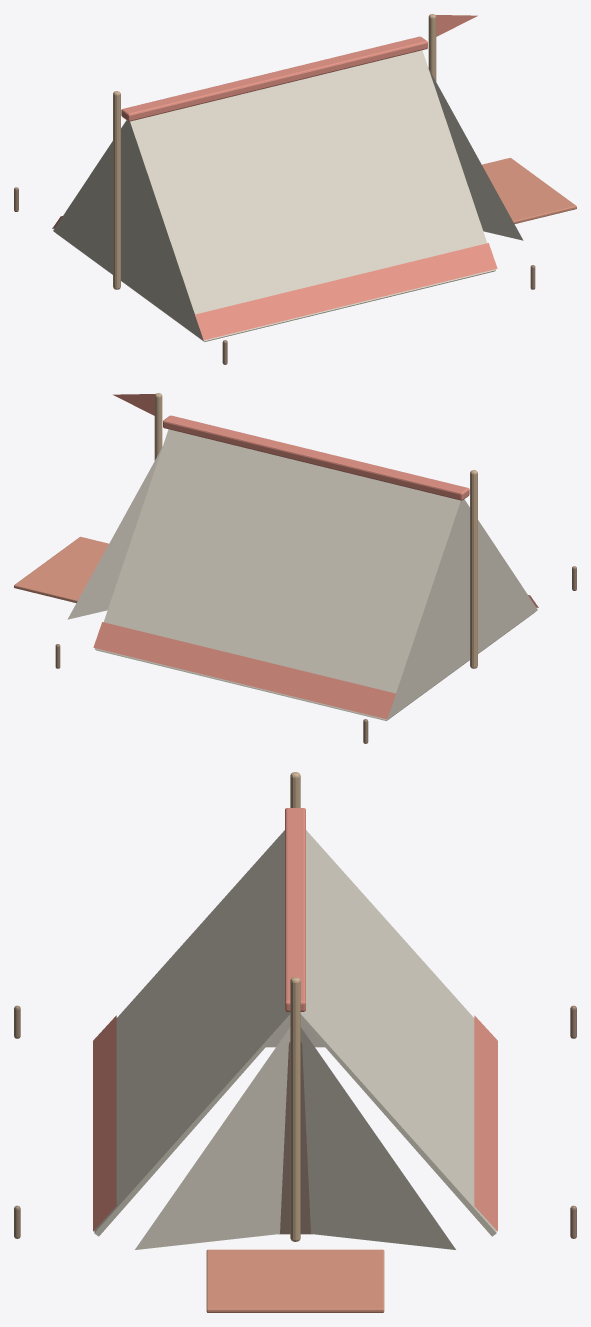
The model's file is camp_tent_v2_a.glb.
3 views of the same model, one above another, from view 1: azimuth 30°, elevation 25°; view 2: azimuth 150°, elevation 25°; view 3: azimuth 270°, elevation 25° (orthographic). The views are drawn at different scales.
Parts seen in each view (by area): view 1: camp_tent_v2_a; view 2: camp_tent_v2_a; view 3: camp_tent_v2_a.
Boxes of the visible parts, x1,y1,x2,y2 form: camp_tent_v2_a: (14,14,576,364); camp_tent_v2_a: (14,393,576,743); camp_tent_v2_a: (14,772,576,1312).
Bounding box in the file's own units: 5.59 × 2.48 × 4.76.
